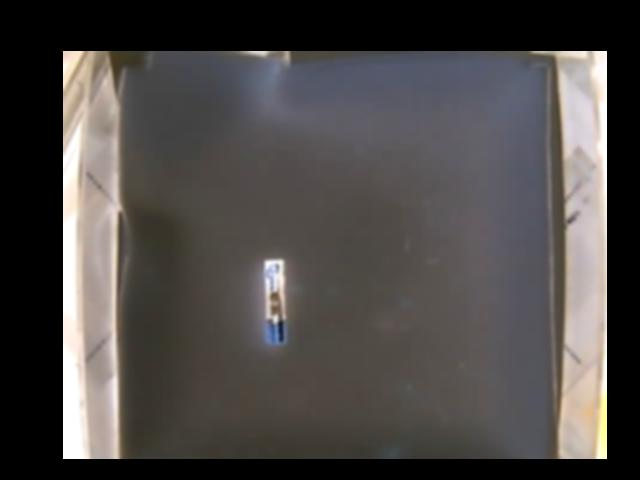Battery: (261, 260, 290, 346)
